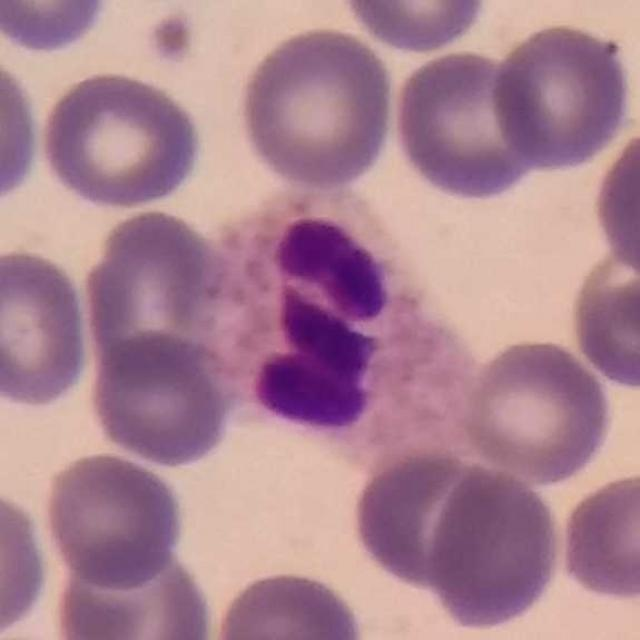Neutrophil: (197, 194, 488, 486)
Platelets: (145, 8, 198, 68)
RBC: (79, 205, 245, 388), (233, 22, 400, 193), (37, 66, 207, 212), (388, 45, 544, 204), (424, 461, 567, 634), (456, 333, 616, 485), (486, 18, 637, 175), (348, 446, 506, 594), (85, 330, 237, 470), (39, 449, 187, 591), (47, 542, 218, 640), (0, 245, 95, 412), (207, 564, 370, 640), (555, 466, 640, 606), (564, 238, 640, 394), (335, 0, 492, 55), (589, 123, 640, 284), (0, 484, 53, 638), (0, 46, 45, 214), (0, 0, 116, 57)
